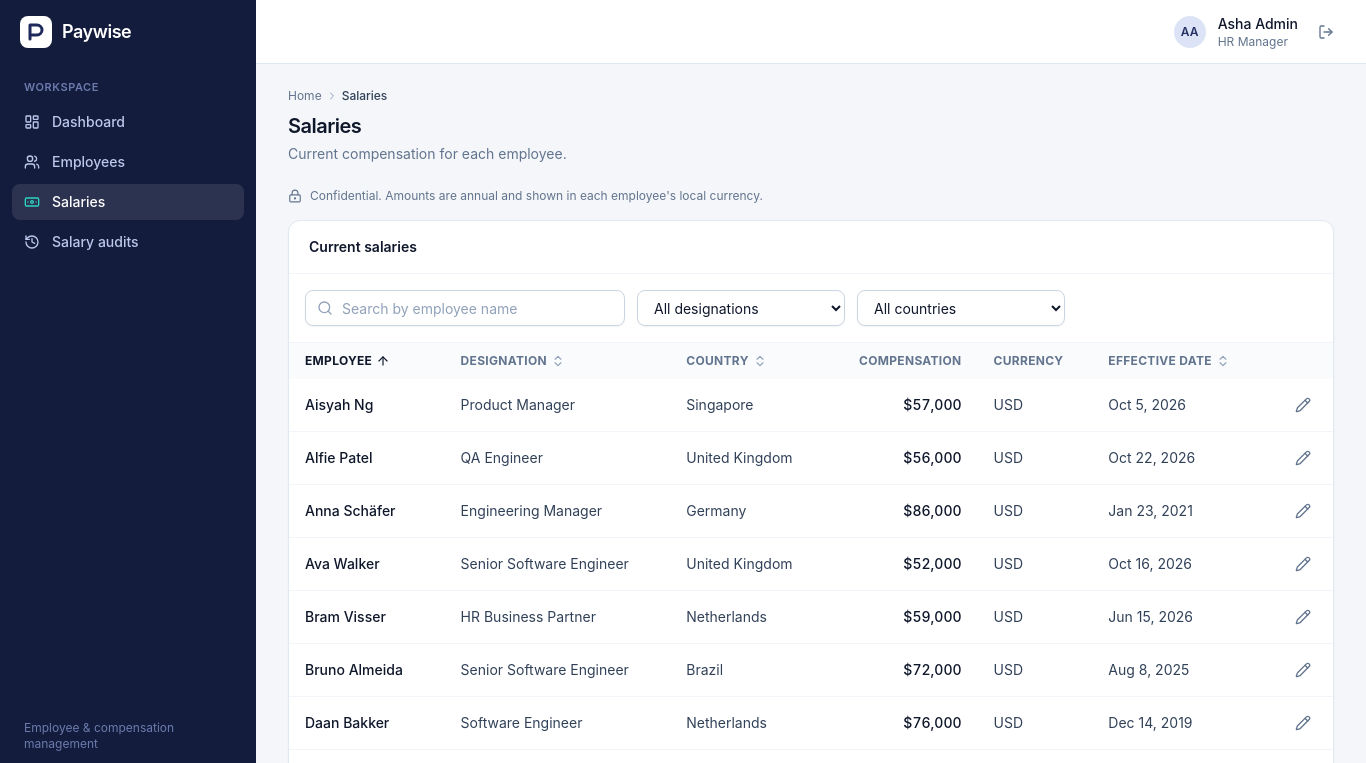
Scenario: SalariesPage — roles › explains when Rails refuses the update for this role
Click the button named "Update salary for" at (1303, 405), box [1289,391,1317,419]
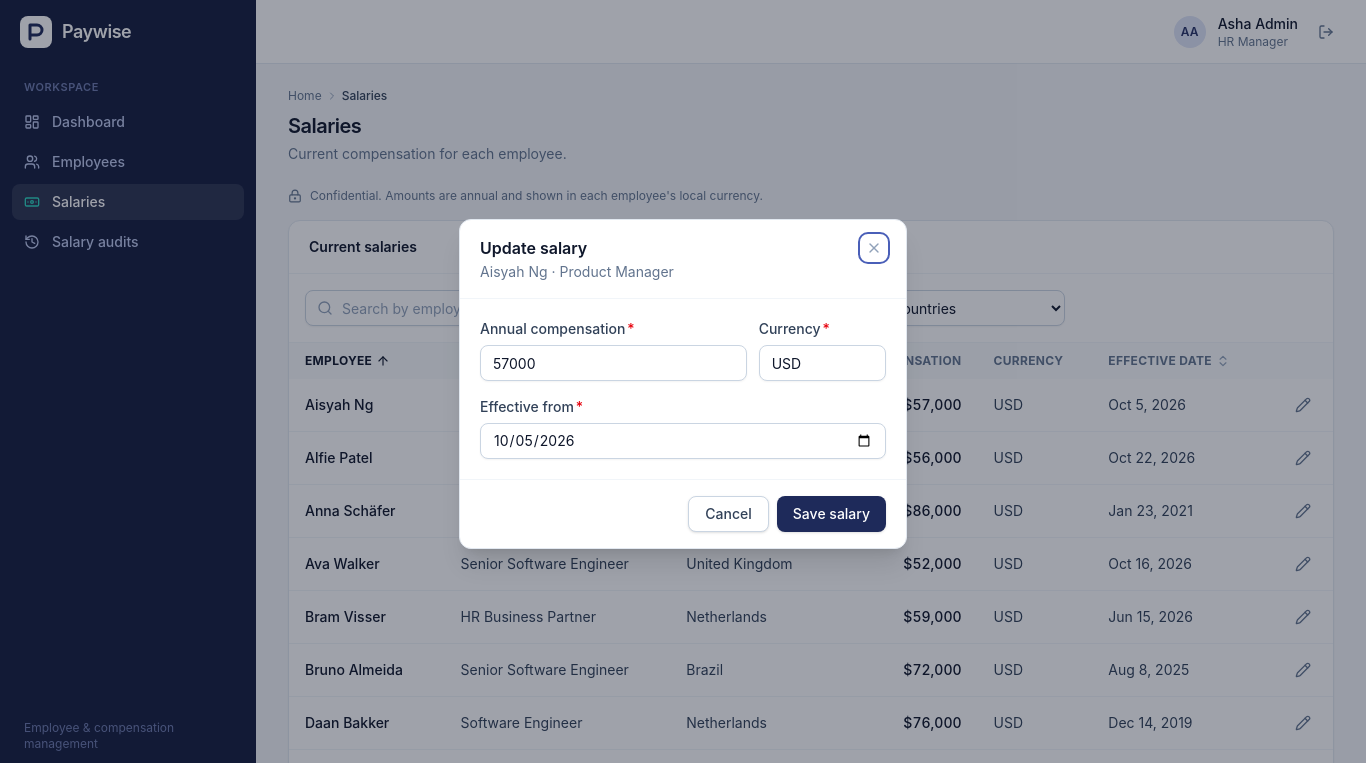
Click the button "Save salary" at (831, 514), box [777,496,886,532]
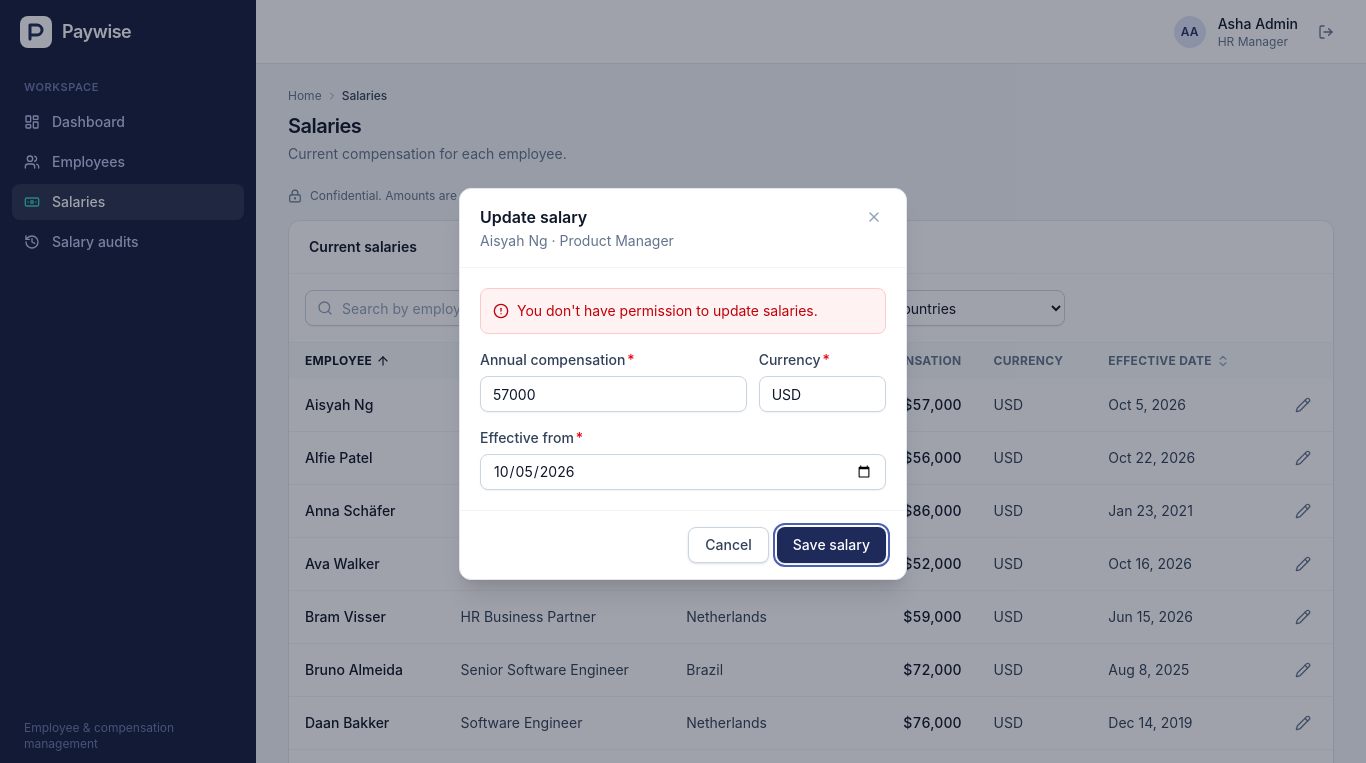
Check: the dialog is shown, box [459,188,907,580]
Check: the message reads "You don't have permission to update salaries.", box [517,302,818,319]
